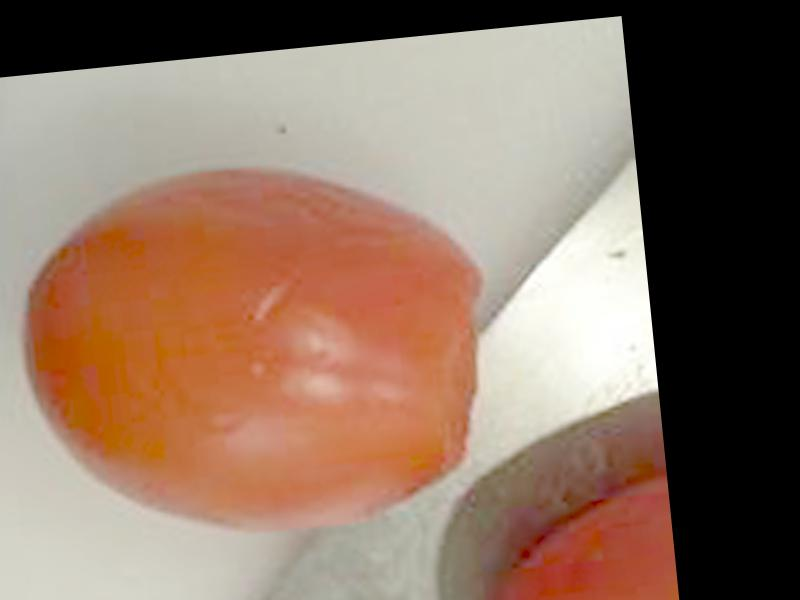Tomato: (6, 145, 503, 557)
